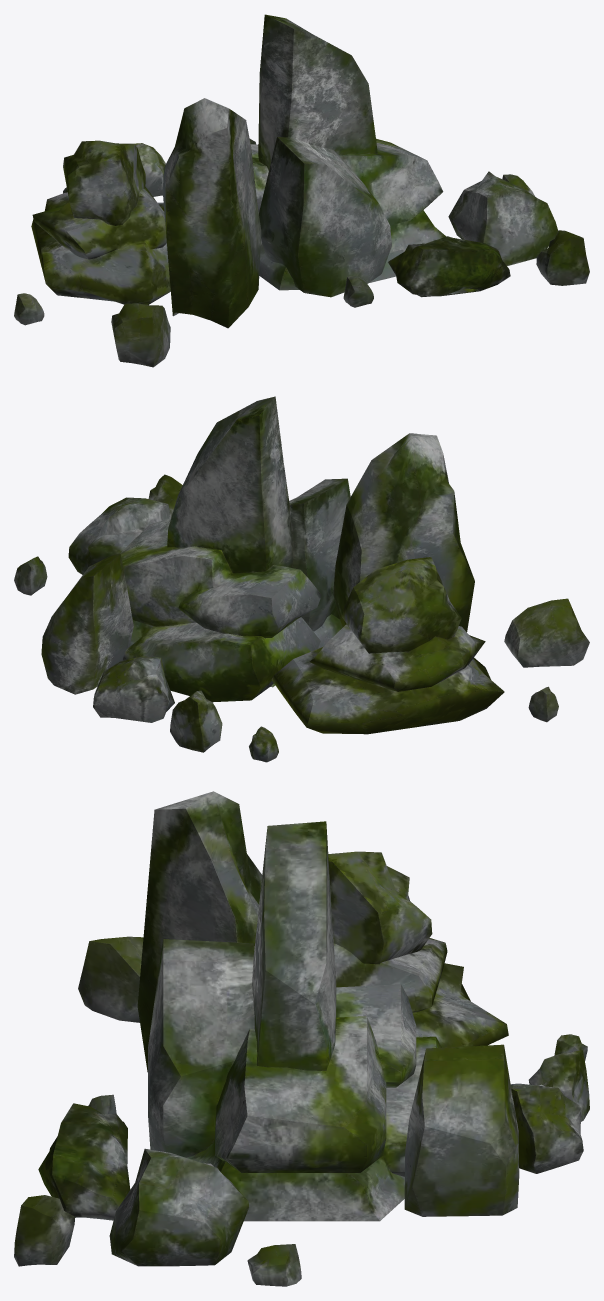
3 views of the same model, one above another, from view 1: azimuth 30°, elevation 25°; view 2: azimuth 150°, elevation 25°; view 3: azimuth 270°, elevation 25° (orthographic). The views are drawn at different scales.
Visible parts, largest first — view 1: defaultMaterial; view 2: defaultMaterial; view 3: defaultMaterial.
Part boxes in pixels (x1,y1,x2,y2): defaultMaterial: (14,14,589,367); defaultMaterial: (14,396,589,762); defaultMaterial: (14,791,589,1286).
Size of the model in its own units: 1871 by 841 by 1379.
Materials: 1 (1 with a texture image).
